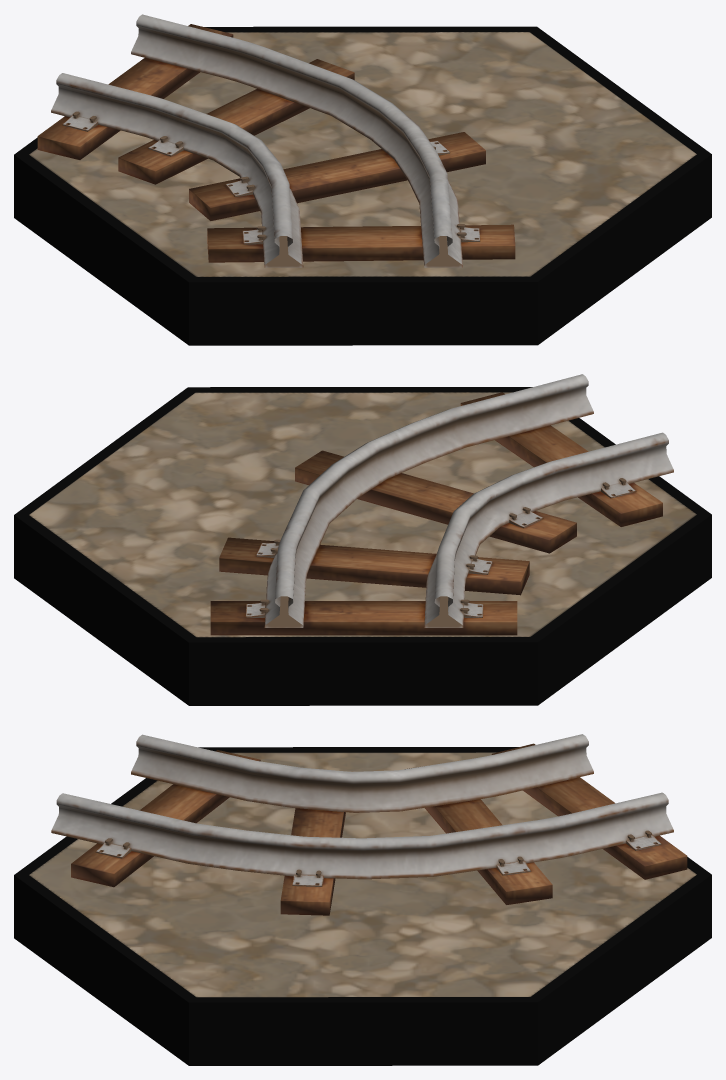
The model's file is trilho_curvo.fbx.
The picture shows the model from 3 angles, top to bottom: view 1: azimuth 30°, elevation 25°; view 2: azimuth 150°, elevation 25°; view 3: azimuth 270°, elevation 25°; orthographic projection.
Visible parts, largest first — view 1: trilho_curvo; view 2: trilho_curvo; view 3: trilho_curvo.
Boxes of the visible parts, x1,y1,x2,y2 form: trilho_curvo: (14, 14, 711, 345); trilho_curvo: (14, 374, 711, 705); trilho_curvo: (14, 734, 711, 1065).
Size of the model in its own units: 173 by 34.61 by 200.
